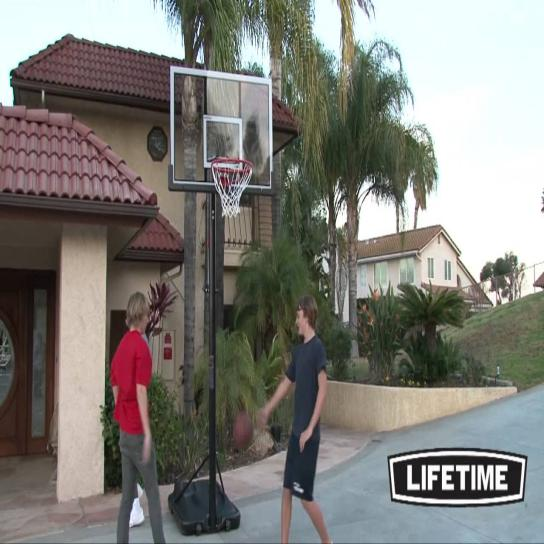basketball-hoop: (210, 157, 253, 216)
